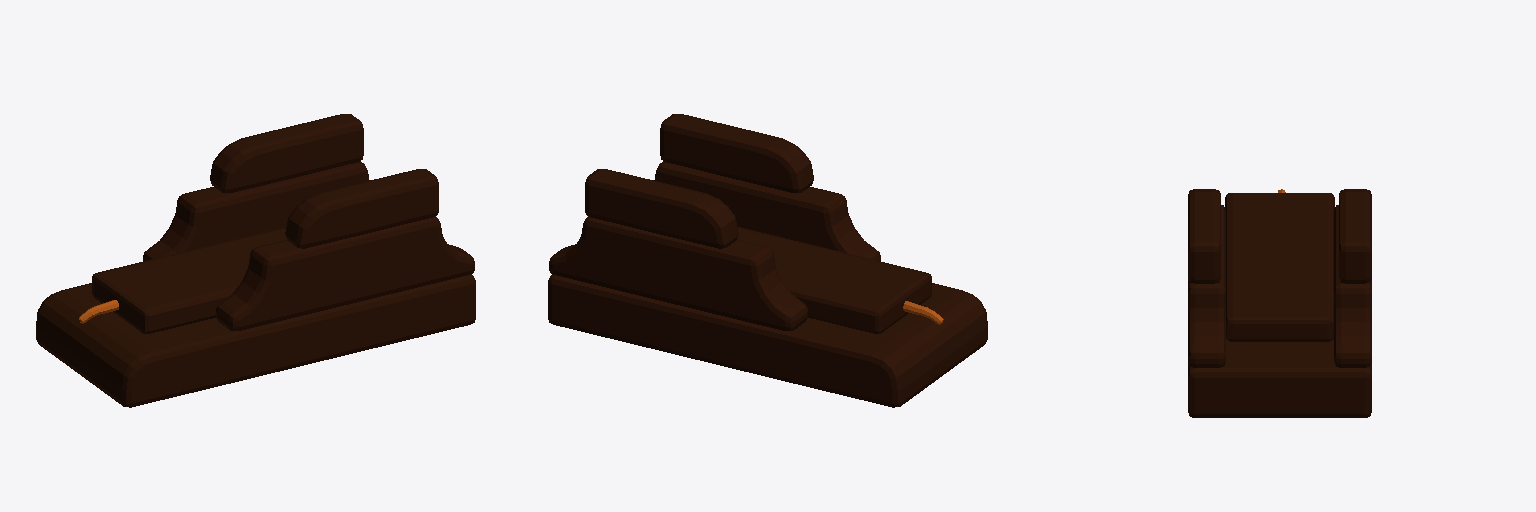
The model's file is base_wood.obj.
3 renders of one model, left to right at view 1: azimuth 30°, elevation 25°; view 2: azimuth 150°, elevation 25°; view 3: azimuth 270°, elevation 25°, orthographic.
Visible parts, largest first — view 1: base_wood; view 2: base_wood; view 3: base_wood.
Part boxes in pixels (x1,y1,x2,y2): base_wood: (36, 114, 475, 407); base_wood: (548, 114, 987, 407); base_wood: (1188, 189, 1371, 417).
Bounding box in the file's own units: 71.94 × 30.64 × 32.58.